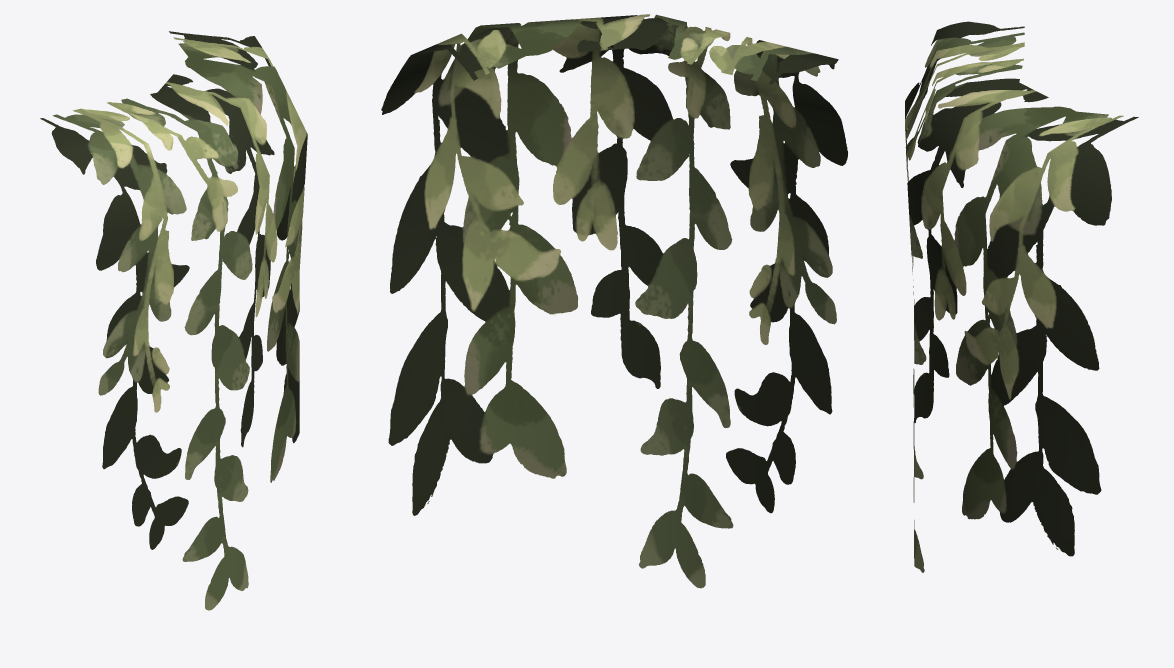
File: Decal_Plant_Corner.FBX
3 renders of one model, left to right at view 1: azimuth 30°, elevation 25°; view 2: azimuth 150°, elevation 25°; view 3: azimuth 270°, elevation 25°, orthographic. The views are drawn at different scales.
Parts seen in each view (by area): view 1: Plant; view 2: Plant; view 3: Plant.
Boxes of the visible parts, bbox=[...] form: Plant: bbox=[40, 31, 307, 610]; Plant: bbox=[381, 14, 847, 588]; Plant: bbox=[905, 21, 1138, 572].
Bounding box in the file's own units: 6.01 × 4.16 × 8.79.
